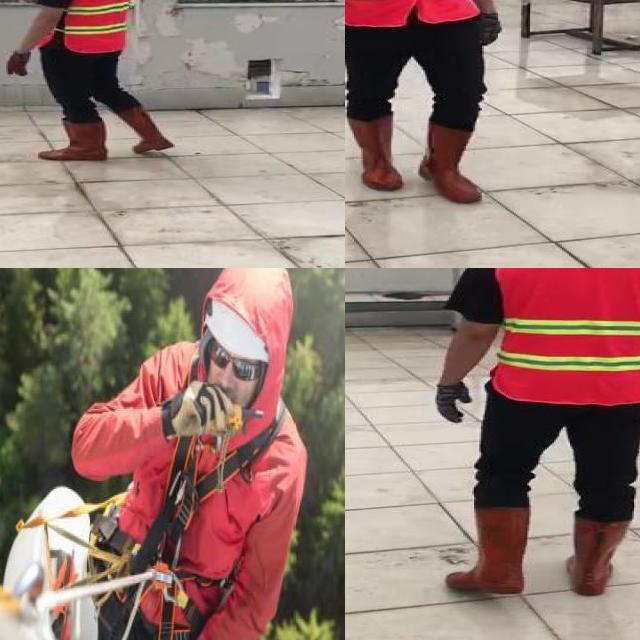Harness: (131, 404, 285, 574)
boots: (440, 504, 526, 595), (418, 119, 484, 203), (566, 512, 627, 596), (345, 113, 409, 192), (113, 108, 175, 154), (40, 121, 106, 163)
hand_glove: (433, 383, 476, 424), (473, 10, 505, 48), (4, 51, 33, 79)
person: (412, 268, 640, 605), (345, 0, 510, 208), (0, 0, 182, 163)
vest: (492, 268, 640, 405), (57, 0, 128, 54)
